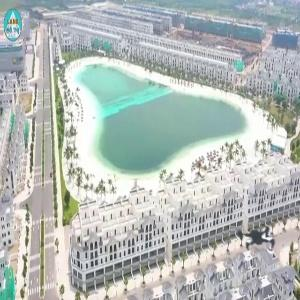drone: (220, 200, 296, 276)
